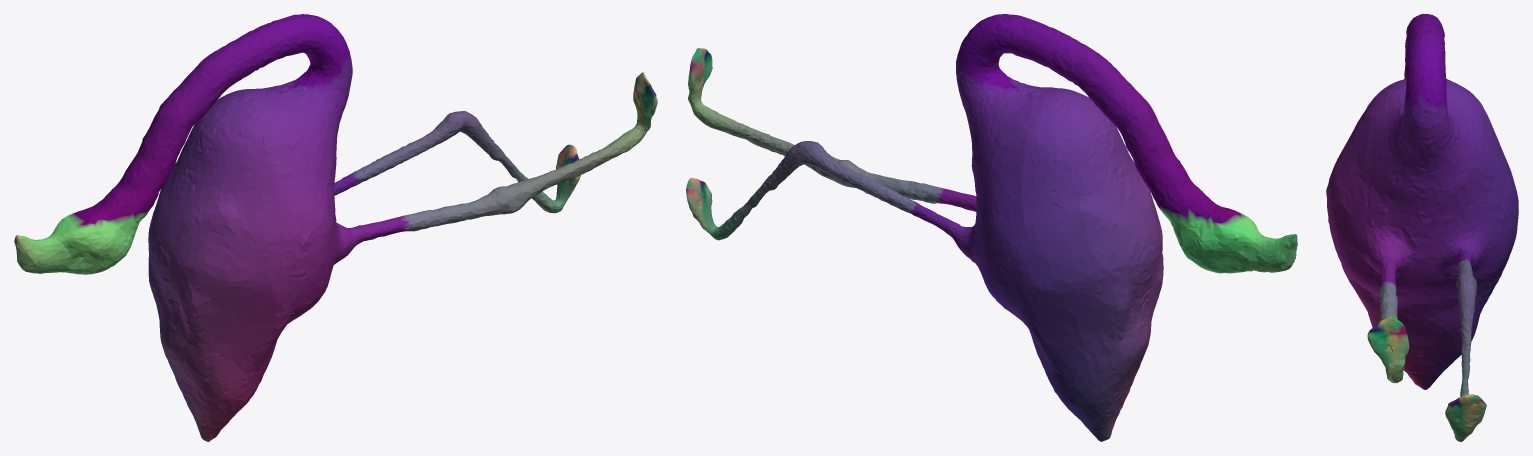
Rendered from flamingo-12.off.obj.
The picture shows the model from 3 angles, left to right: view 1: azimuth 30°, elevation 25°; view 2: azimuth 150°, elevation 25°; view 3: azimuth 270°, elevation 25°; orthographic projection.
Size of the model in its own units: 1.55 by 0.9615 by 0.422.
